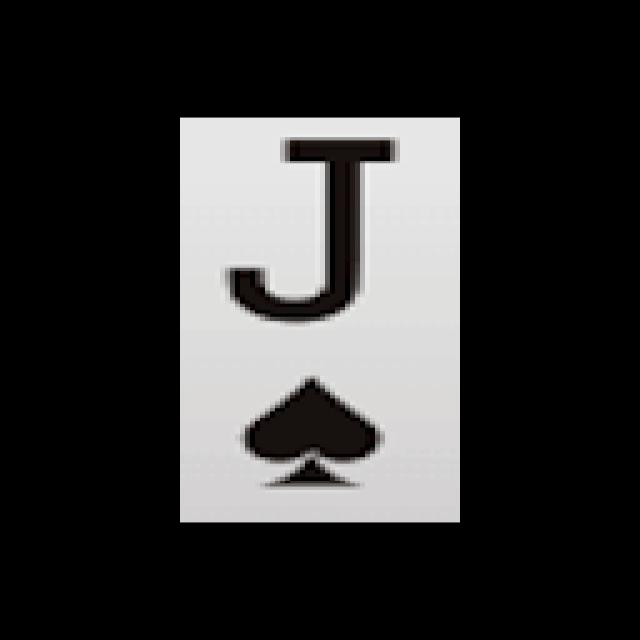JS: (200, 127, 410, 501)
